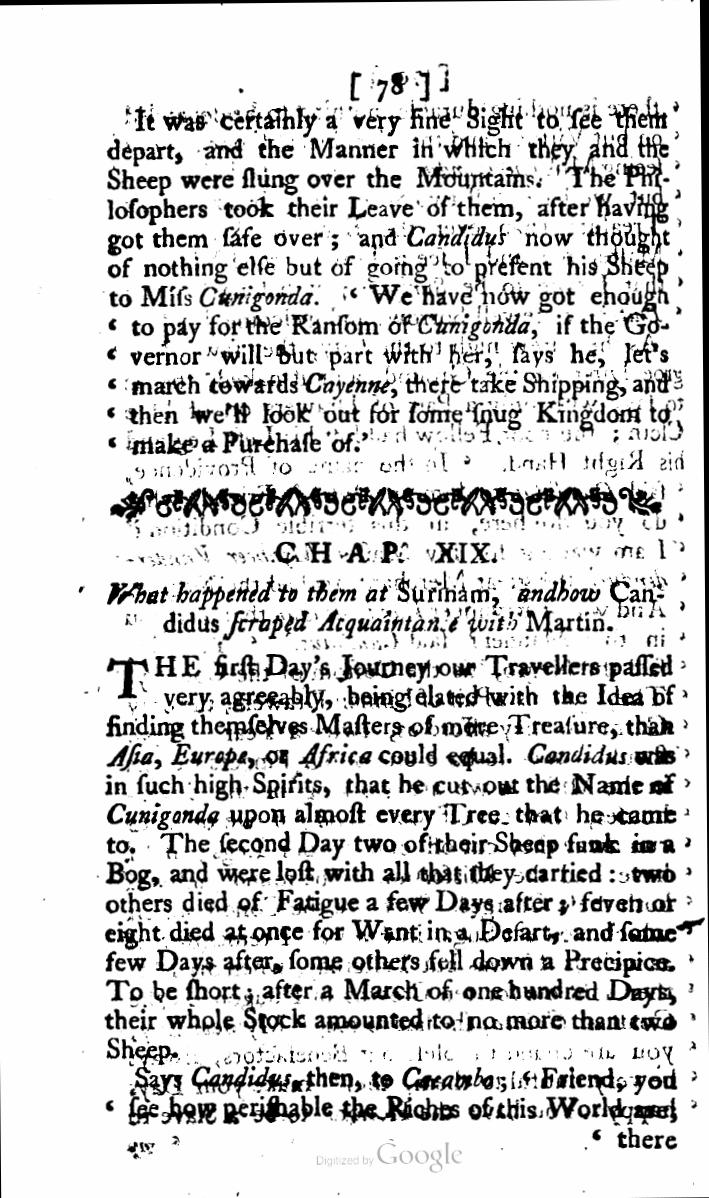catchword: (592, 1127, 680, 1153)
full_p: (103, 650, 678, 1062), (103, 103, 673, 458), (107, 578, 667, 638), (275, 538, 498, 568)
initial_l: (105, 653, 150, 702)
page_num: (373, 68, 407, 103)
top_p: (102, 1062, 680, 1125)
viz: (110, 483, 667, 527)
